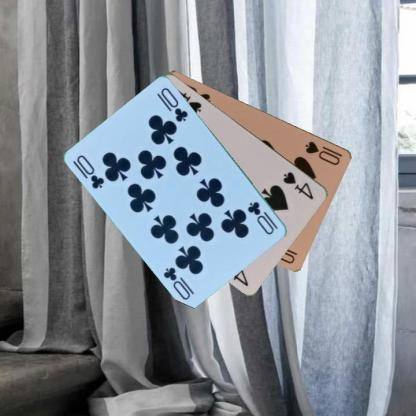10c: (245, 199, 280, 236), (74, 152, 106, 191)
10s: (303, 138, 344, 166)
4s: (281, 169, 315, 201)
